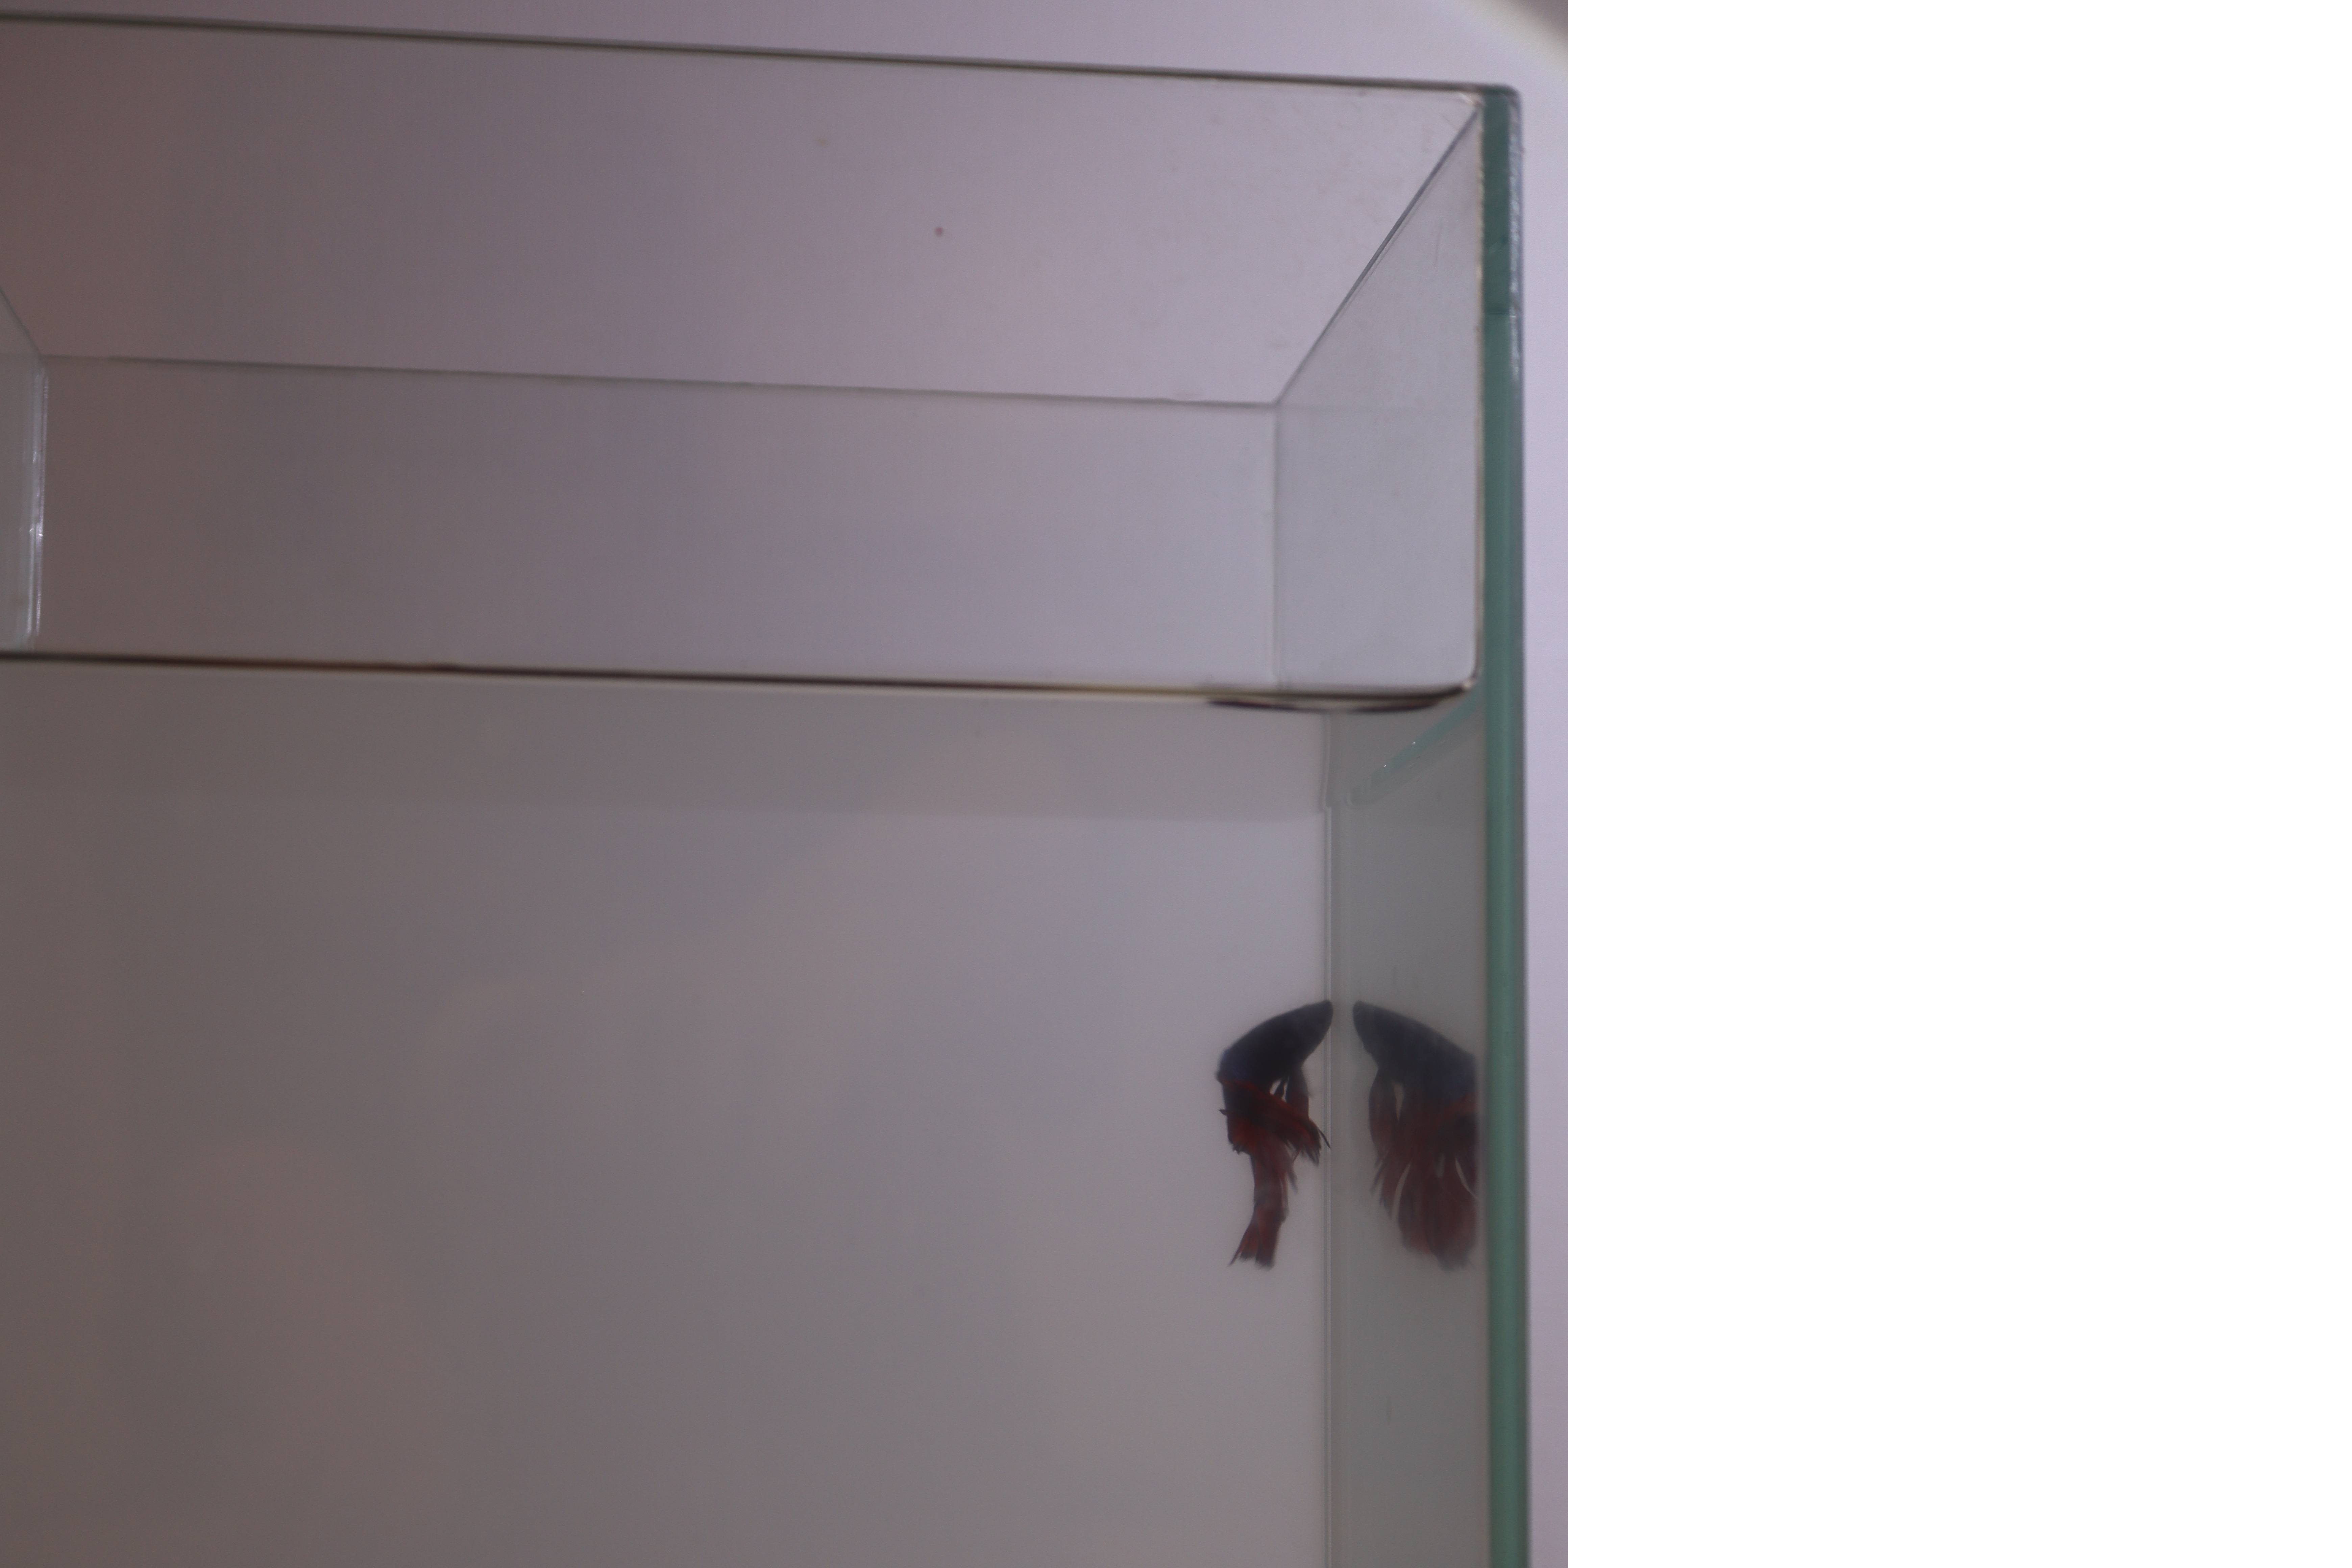fish: (1207, 992, 1334, 1286)
